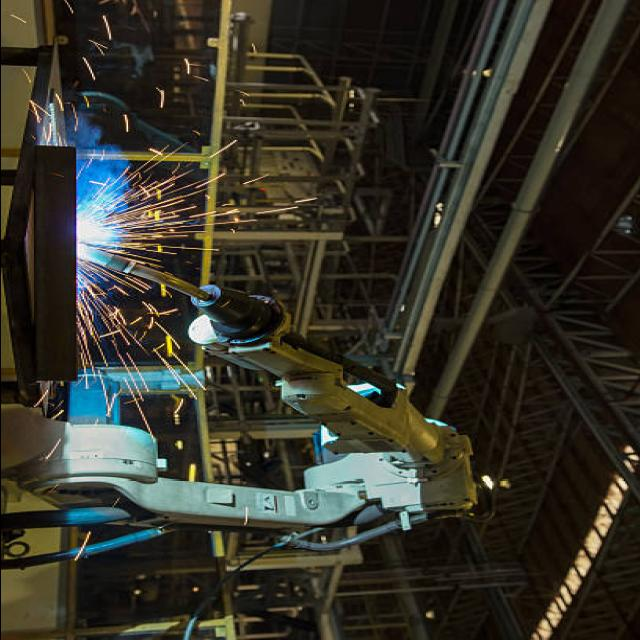Robotic-arm: (28, 288, 484, 554)
